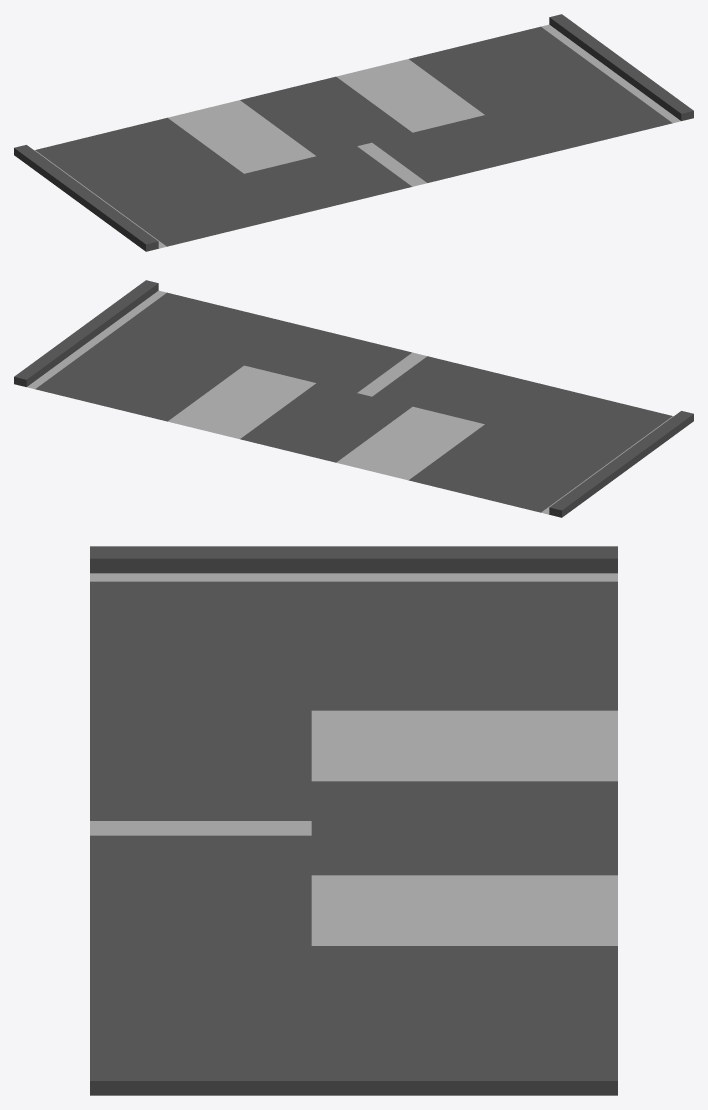
Rendered from Road_01.fbx.
3 views of the same model, one above another, from view 1: azimuth 30°, elevation 25°; view 2: azimuth 150°, elevation 25°; view 3: azimuth 270°, elevation 25° (orthographic). The views are drawn at different scales.
Visible parts, largest first — view 1: Road_1; view 2: Road_1; view 3: Road_1.
Boxes of the visible parts, x1,y1,x2,y2 form: Road_1: [14, 14, 693, 251]; Road_1: [14, 280, 693, 517]; Road_1: [90, 546, 617, 1095].
Bounding box in the file's own units: 2400 × 30.84 × 1002.
